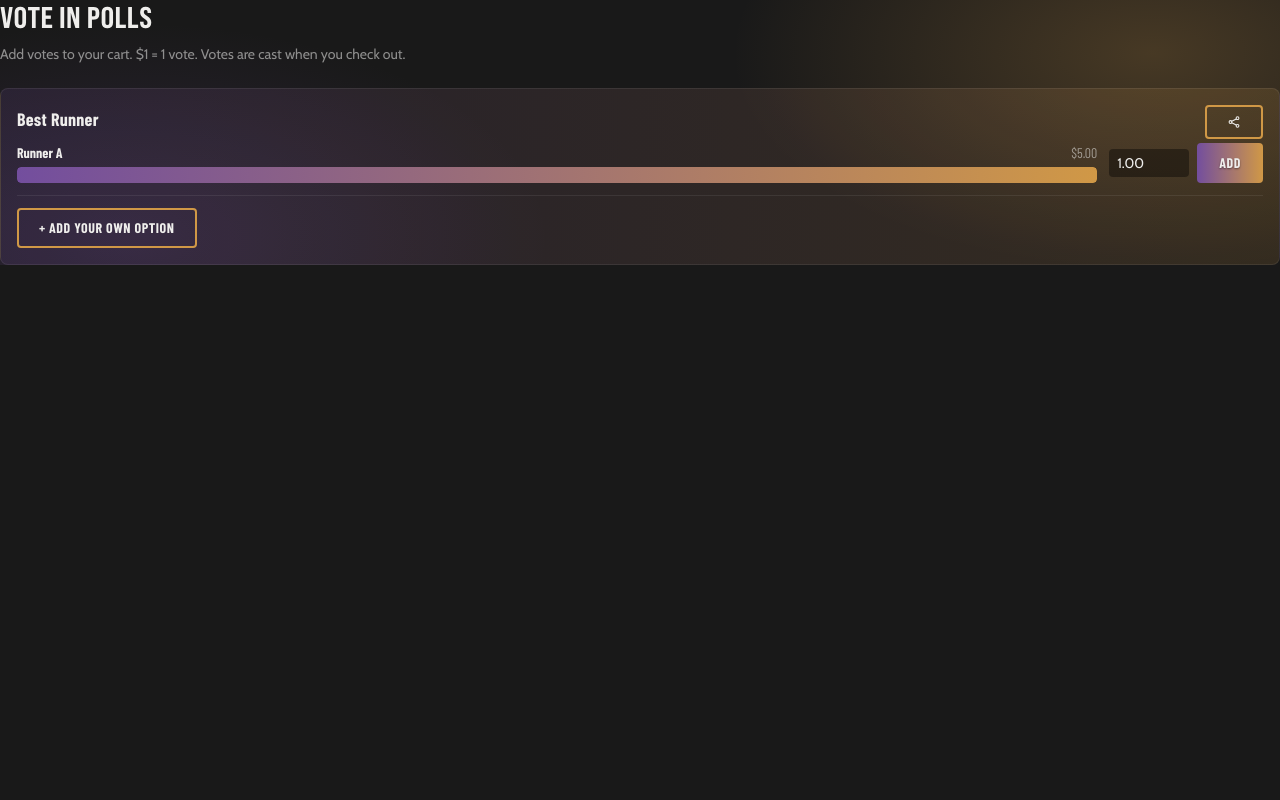
Test: PollList › shows an amount error for a write-in below minimum
This screenshot has width=1280, height=800.
Click the button "+ add your own option": (107, 228) x1=17 y1=208 x2=196 y2=248
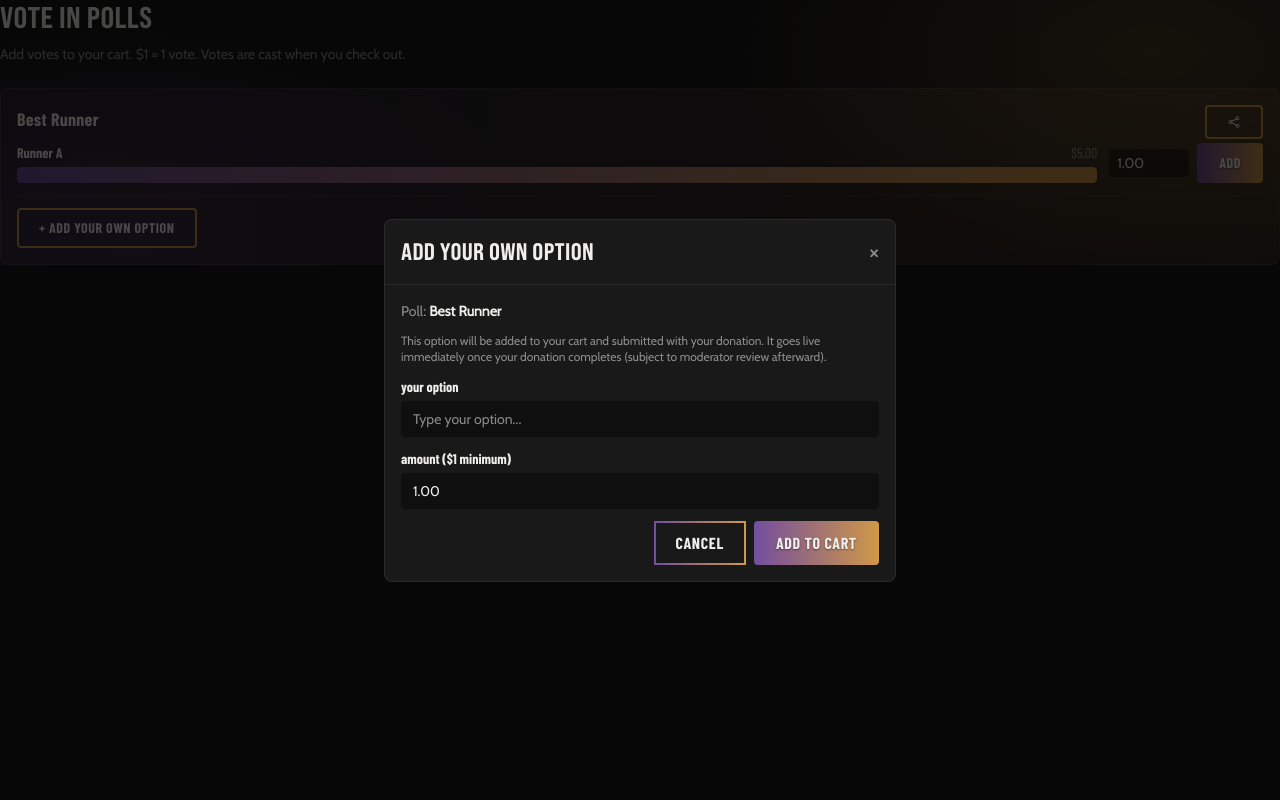
In the field with placeholder "Type your option...": (640, 418) x1=401 y1=400 x2=879 y2=436, type "My idea"
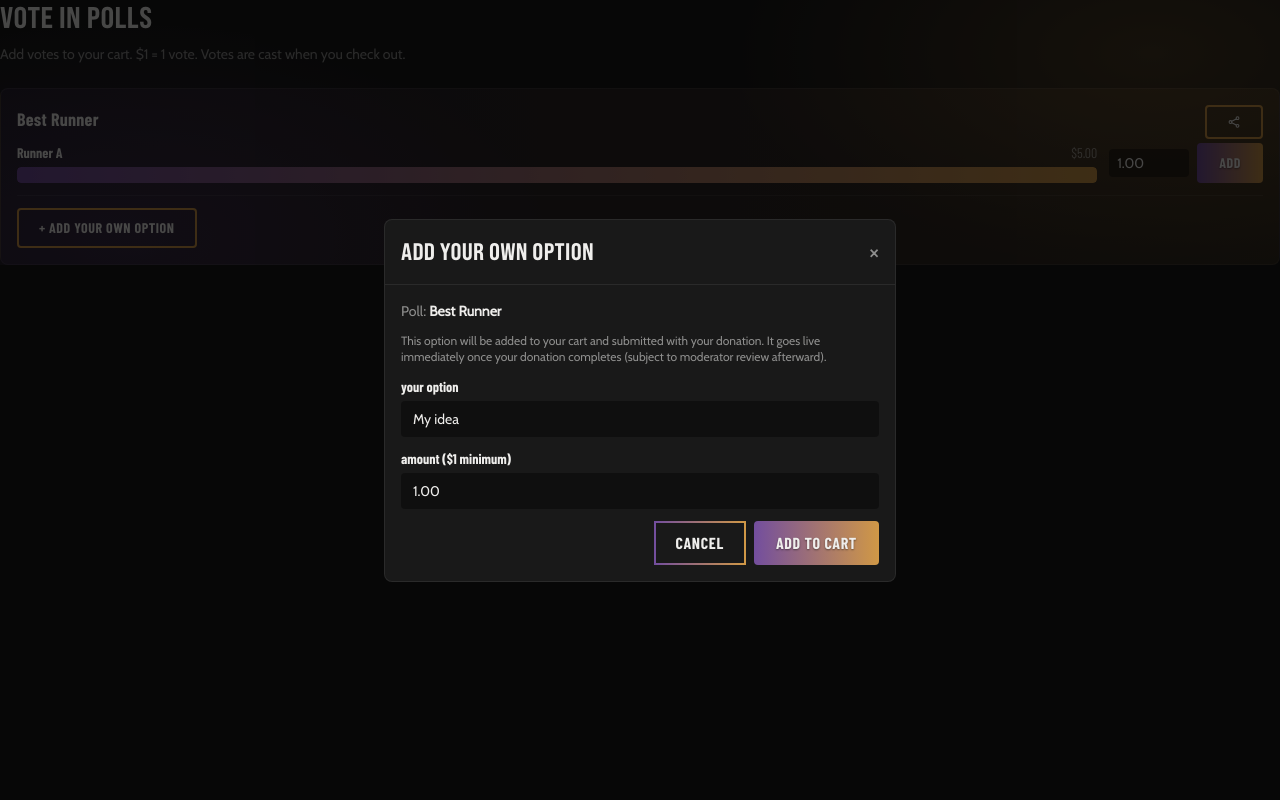
# change amount to 0
Replace the text in the number field with "0": (640, 490) x1=401 y1=472 x2=879 y2=508
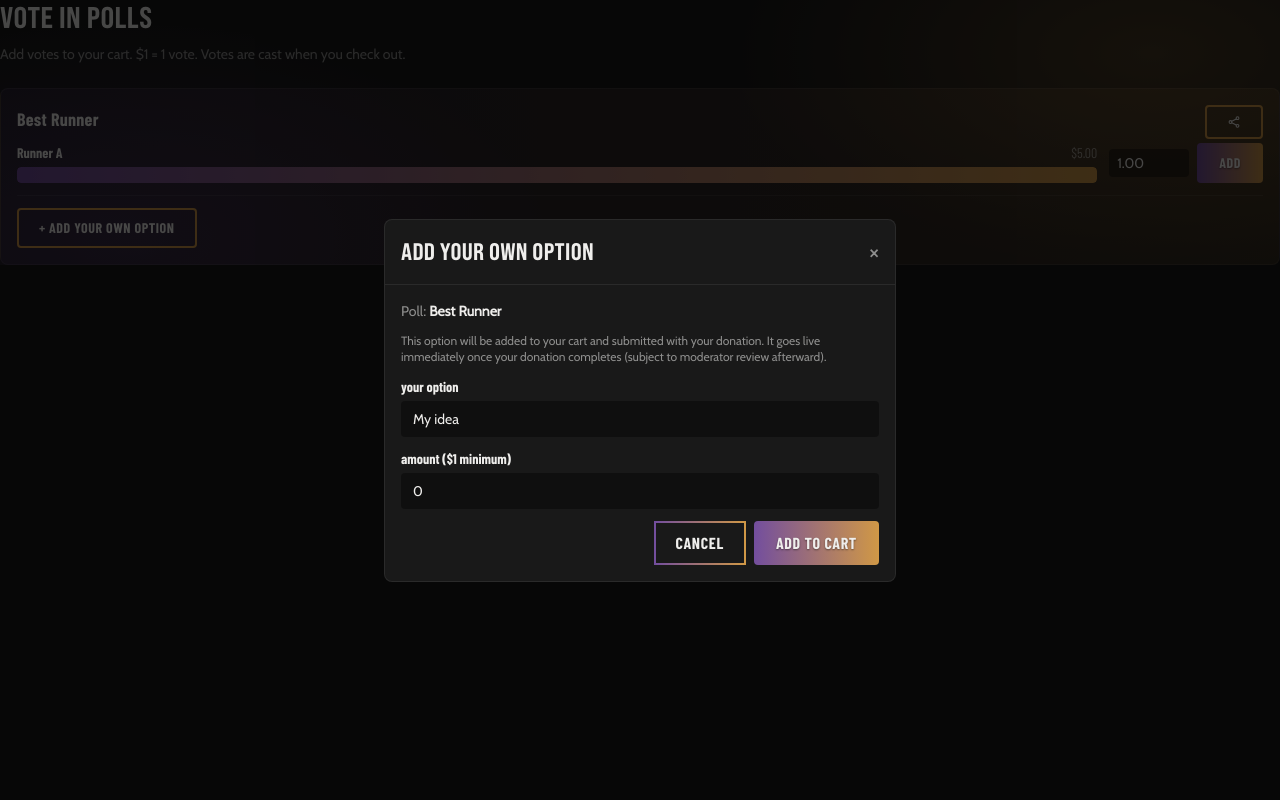
Click the button "add to cart": (816, 542) x1=754 y1=520 x2=879 y2=564
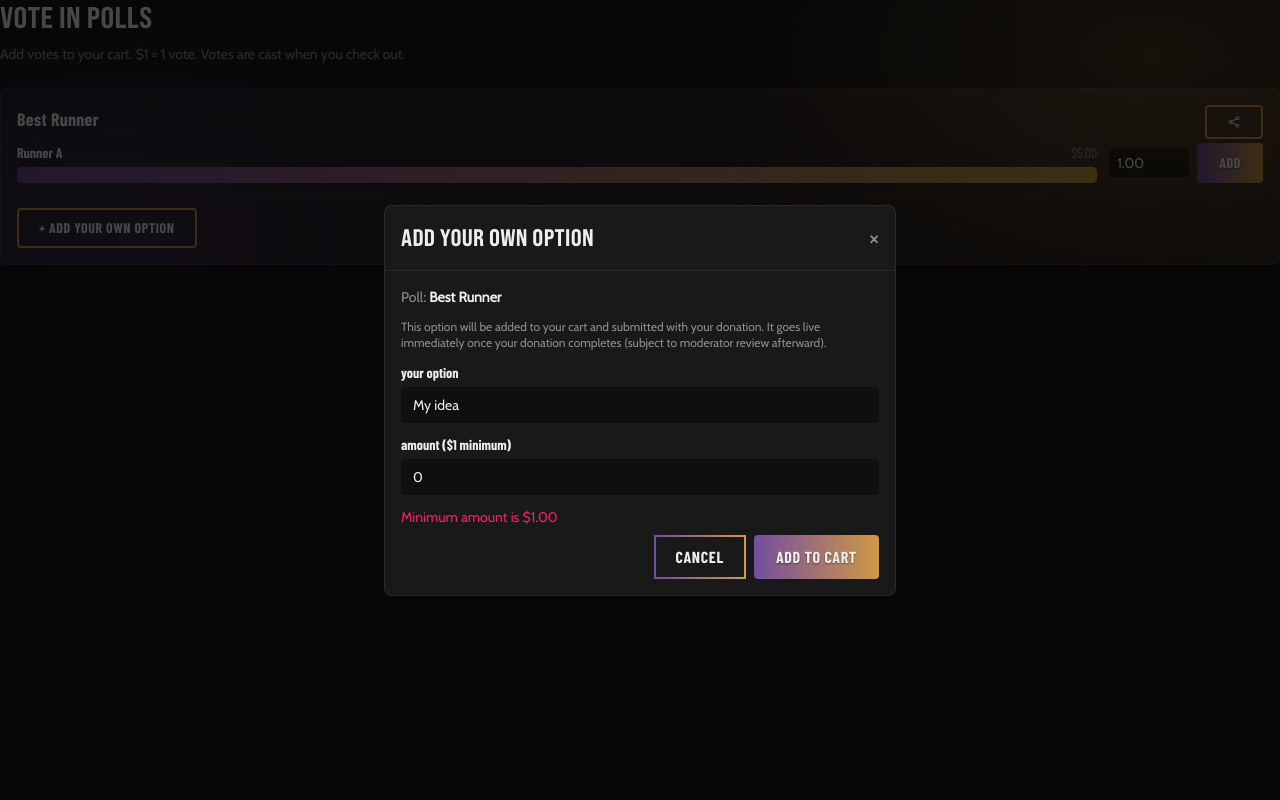
Now the text "Minimum amount is $1.00" is shown, box x1=401 y1=508 x2=558 y2=526
